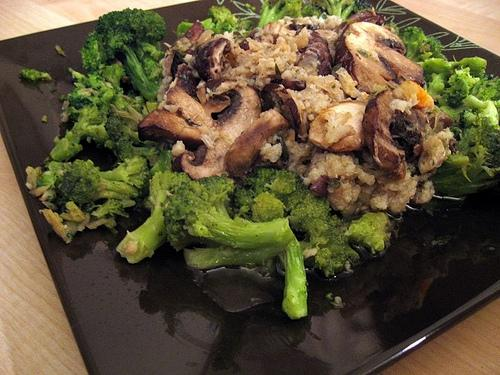broccoli: (161, 174, 308, 320), (78, 7, 167, 101), (115, 170, 192, 264), (37, 158, 142, 215), (457, 108, 500, 182), (344, 211, 394, 254), (176, 5, 231, 39), (100, 155, 150, 192), (398, 26, 445, 63), (428, 151, 472, 184), (78, 107, 112, 147), (256, 0, 301, 30), (108, 96, 144, 132), (420, 58, 454, 96), (443, 65, 480, 97), (83, 71, 115, 105), (115, 140, 160, 161), (449, 56, 487, 79), (316, 0, 356, 20), (458, 108, 478, 130), (19, 70, 52, 82), (56, 45, 68, 57), (472, 118, 480, 128), (486, 82, 496, 88), (41, 115, 48, 122)
mushroom: (166, 78, 262, 180), (363, 90, 434, 180), (344, 22, 425, 89), (224, 108, 290, 177), (310, 100, 367, 153), (258, 83, 302, 134), (189, 38, 228, 83), (295, 31, 333, 76), (270, 78, 306, 92), (356, 15, 386, 26), (314, 30, 338, 42)
